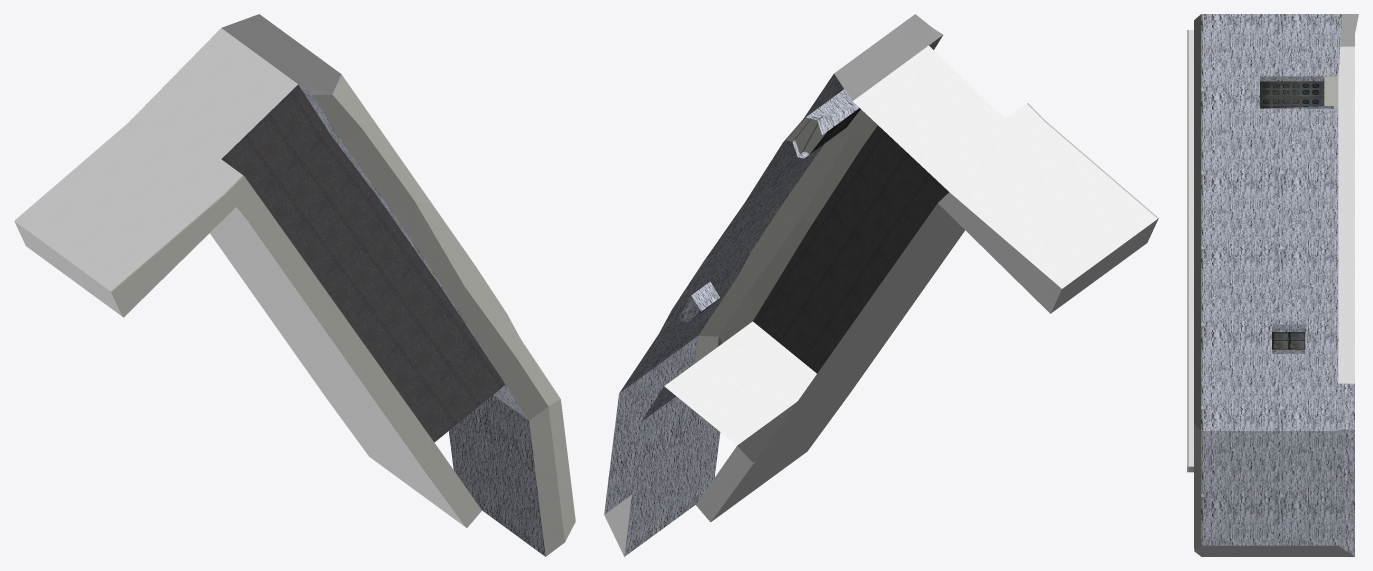
The model's file is Aida_7_2-origo.obj.
3 renders of one model, left to right at view 1: azimuth 30°, elevation 25°; view 2: azimuth 150°, elevation 25°; view 3: azimuth 270°, elevation 25°, orthographic. The views are drawn at different scales.
Visible parts, largest first — view 1: Aida_7_2, xxx; view 2: Aida_7_2, xxx; view 3: Aida_7_2, xxx.
Boxes of the visible parts, <box> form: Aida_7_2: <box>14,28,575,556</box>; xxx: <box>221,14,341,94</box>; Aida_7_2: <box>604,35,1158,556</box>; xxx: <box>604,14,942,556</box>; Aida_7_2: <box>1187,14,1358,556</box>; xxx: <box>1189,466,1354,556</box>.
Size of the model in its own units: 17.62 by 19 by 6.47.
